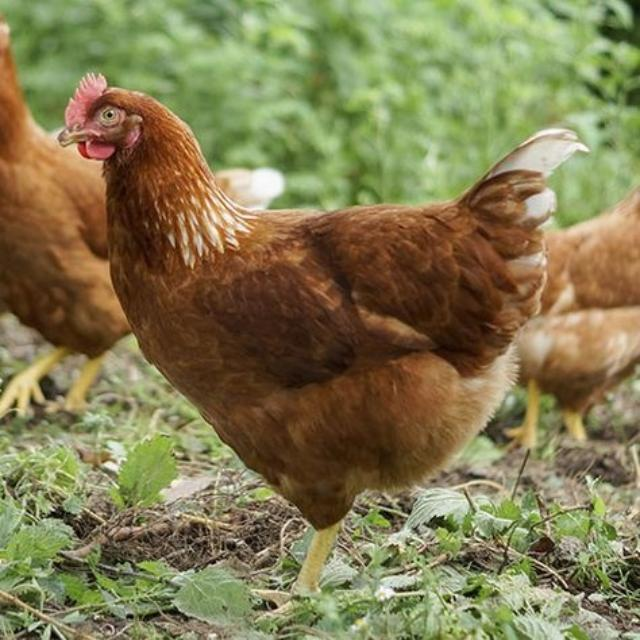Chicken: (59, 74, 590, 618), (0, 15, 281, 417), (514, 185, 640, 456)
